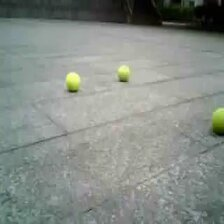tennis: (211, 108, 224, 136), (118, 65, 132, 81), (66, 73, 79, 89)
